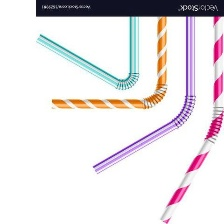drinking_straw: (88, 15, 199, 177), (157, 14, 224, 224), (46, 15, 172, 113), (32, 15, 142, 93)
